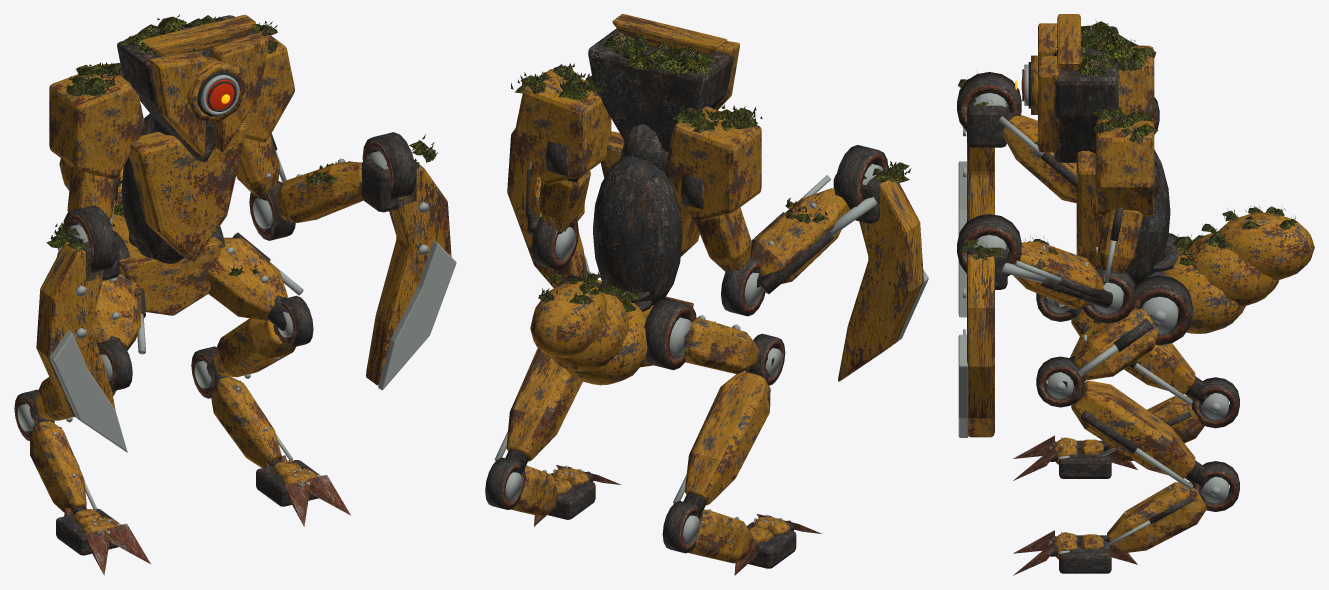
The model's file is assault-mantis.glb.
The picture shows the model from 3 angles, left to right: view 1: azimuth 30°, elevation 25°; view 2: azimuth 150°, elevation 25°; view 3: azimuth 270°, elevation 25°; orthographic projection. The views are drawn at different scales.
Parts seen in each view (by area): view 1: Head_Mesh, Blade_hand_1_Mesh, Blade_hand_-1_Mesh, Thorax_Mesh, Mantis_shoulder_-1_Mesh, Mantis_forearm_1_Mesh, Mantis_shoulder_1_Mesh, mantis_leg_1_segment_0_Mesh, mantis_leg_1_segment_2_Mesh, mantis_leg_1_segment_1_Mesh, mantis_leg_-1_segment_2_Mesh, Pelvis_Mesh (+5 smaller); view 2: Head_Mesh, Blade_hand_-1_Mesh, Thorax_Mesh, Mantis_shoulder_-1_Mesh, Mantis_shoulder_1_Mesh, Abdomen_Mesh, mantis_leg_-1_segment_1_Mesh, Mantis_forearm_-1_Mesh, mantis_leg_-1_segment_0_Mesh, mantis_leg_1_segment_1_Mesh, mantis_leg_-1_segment_2_Mesh, mantis_leg_1_segment_2_Mesh (+4 smaller); view 3: Abdomen_Mesh, Head_Mesh, Blade_hand_1_Mesh, Mantis_shoulder_1_Mesh, mantis_leg_1_segment_1_Mesh, mantis_leg_1_segment_0_Mesh, Blade_hand_-1_Mesh, Mantis_forearm_1_Mesh, mantis_leg_1_segment_2_Mesh, Thorax_Mesh, mantis_leg_-1_segment_1_Mesh, mantis_leg_-1_segment_2_Mesh (+4 smaller).
Boxes of the visible parts, x1=… form: Head_Mesh: x1=117, y1=14, x2=268, y2=162; Blade_hand_1_Mesh: x1=361, y1=132, x2=456, y2=390; Blade_hand_-1_Mesh: x1=36, y1=205, x2=127, y2=452; Thorax_Mesh: x1=121, y1=113, x2=246, y2=263; Mantis_shoulder_-1_Mesh: x1=49, y1=62, x2=144, y2=224; Mantis_forearm_1_Mesh: x1=249, y1=158, x2=363, y2=240; Mantis_shoulder_1_Mesh: x1=236, y1=21, x2=294, y2=200; mantis_leg_1_segment_0_Mesh: x1=207, y1=226, x2=303, y2=330; mantis_leg_1_segment_2_Mesh: x1=191, y1=346, x2=292, y2=467; mantis_leg_1_segment_1_Mesh: x1=206, y1=295, x2=313, y2=378; mantis_leg_-1_segment_2_Mesh: x1=14, y1=389, x2=97, y2=512; Pelvis_Mesh: x1=119, y1=237, x2=222, y2=315; Head_Mesh: x1=588, y1=14, x2=739, y2=178; Blade_hand_-1_Mesh: x1=833, y1=145, x2=928, y2=381; Thorax_Mesh: x1=593, y1=131, x2=699, y2=311; Mantis_shoulder_-1_Mesh: x1=665, y1=104, x2=762, y2=271; Mantis_shoulder_1_Mesh: x1=515, y1=63, x2=611, y2=233; Abdomen_Mesh: x1=530, y1=268, x2=647, y2=385; mantis_leg_-1_segment_1_Mesh: x1=673, y1=333, x2=785, y2=518; Mantis_forearm_-1_Mesh: x1=721, y1=175, x2=877, y2=316; mantis_leg_-1_segment_0_Mesh: x1=644, y1=298, x2=774, y2=374; mantis_leg_1_segment_1_Mesh: x1=494, y1=348, x2=582, y2=475; mantis_leg_-1_segment_2_Mesh: x1=662, y1=501, x2=753, y2=563; mantis_leg_1_segment_2_Mesh: x1=485, y1=457, x2=557, y2=516; Abdomen_Mesh: x1=1162, y1=205, x2=1314, y2=333; Head_Mesh: x1=1015, y1=14, x2=1135, y2=162; Blade_hand_1_Mesh: x1=957, y1=214, x2=1021, y2=437; Mantis_shoulder_1_Mesh: x1=1090, y1=107, x2=1159, y2=282; mantis_leg_1_segment_1_Mesh: x1=1036, y1=356, x2=1213, y2=489; mantis_leg_1_segment_0_Mesh: x1=1062, y1=275, x2=1192, y2=387; Blade_hand_-1_Mesh: x1=957, y1=70, x2=1021, y2=317; Mantis_forearm_1_Mesh: x1=1001, y1=235, x2=1135, y2=323; mantis_leg_1_segment_2_Mesh: x1=1104, y1=461, x2=1239, y2=552; Thorax_Mesh: x1=1076, y1=149, x2=1177, y2=283; mantis_leg_-1_segment_1_Mesh: x1=1036, y1=293, x2=1213, y2=405; mantis_leg_-1_segment_2_Mesh: x1=1101, y1=377, x2=1239, y2=461.
Bounding box in the file's own units: 2.1 × 2.48 × 1.66.
8 materials, 4 textured.
